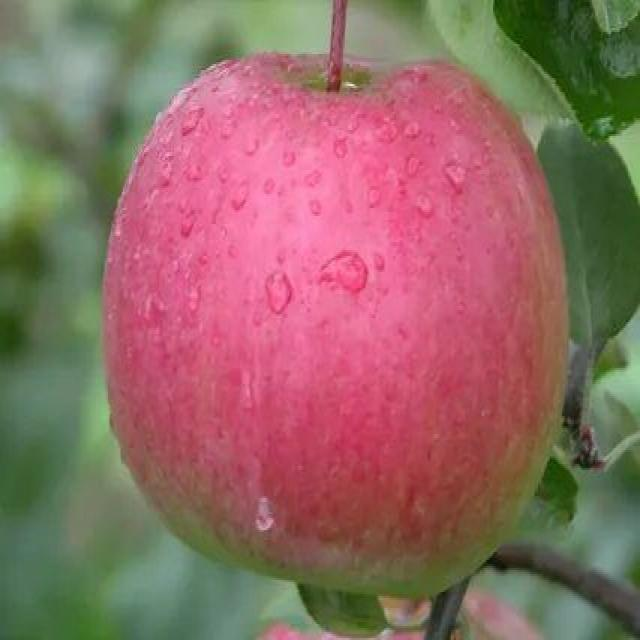Fresh Apple: (112, 50, 560, 600)
